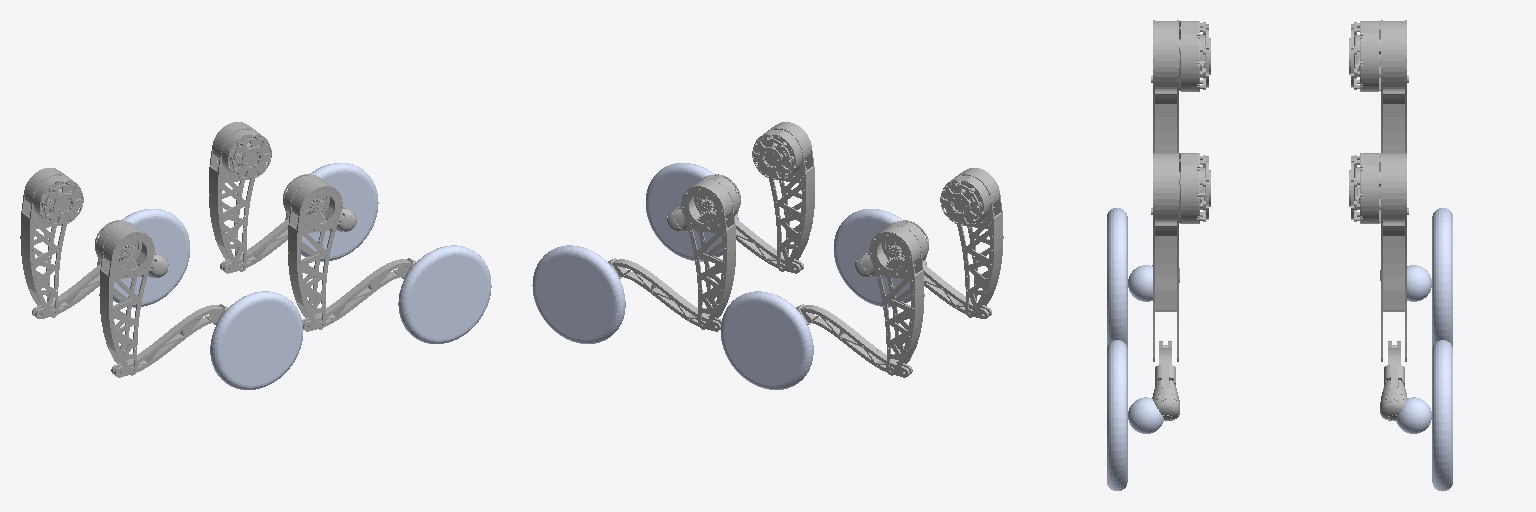
The robot description file, URDF, robot "blackW":
<?xml version="1.0"?>
<robot name="blackW">

  <link name="base">
    <visual>
      <origin xyz="0 0 0" rpy="0 0 0" />
      <geometry>
        <box size="0.001 0.001 0.001" />
      </geometry>
    </visual>
  </link>

  <link name="trunk">
    <visual>
      <origin xyz="0 0 0" rpy="0 0 0" />
      <geometry>
        <mesh filename="meshes/trunk.STL" />
      </geometry>
      <material name="trunk_mat">
        <color rgba="0.74902353 0.74902353 0.74902353 1.00000000"/>
      </material>
    </visual>
    <collision>
      <origin xyz="0 0 -0.02" rpy="0 0 0" />
      <geometry>
        <box size="0.3 0.14 0.065" />
      </geometry>
    </collision>
    <collision>
      <origin xyz="0 0 -0.08" rpy="0 0 0" />
      <geometry>
        <box size="0.23 0.11 0.06" />
      </geometry>
    </collision>
    <collision>
      <origin xyz="0 0 -0.125" rpy="0 0 0" />
      <geometry>
        <box size="0.21 0.12 0.04" />
      </geometry>
    </collision>
    <collision>
      <origin xyz="0.225 0 -0.13" rpy="0 0 0" />
      <geometry>
        <box size="0.145 0.07 0.01" />
      </geometry>
    </collision>
    <collision>
      <origin xyz="0.225 0 0.015" rpy="0 0 0" />
      <geometry>
        <box size="0.145 0.09 0.01" />
      </geometry>
    </collision>
    <collision>
      <origin xyz="0.293 0 -0.055" rpy="0 0 0" />
      <geometry>
        <box size="0.01 0.09 0.14" />
      </geometry>
    </collision>
    <inertial>
      <origin xyz="-0.012143 -0.0000494 -0.0734402" rpy="0 0 0" />
      <mass value="5.7659525" />
      <inertia ixx="0.0093888" ixy="-0.0000026" ixz="0.0000017" iyy="0.0077112" iyz="-0.0000276" izz="0.012879" />
    </inertial>
  </link>

  <link name="imu_link">
    <visual>
      <origin xyz="0 0 0" rpy="0 0 0" />
      <geometry>
        <box size="0.001 0.001 0.001" />
      </geometry>
      <material name="imu_link_mat">
        <color rgba="0.80000392 0.00000392 0.00000392 1.00000000"/>
      </material>
    </visual>
    <inertial>
      <origin xyz="0 0 0" rpy="0 0 0" />
      <mass value="0.001" />
      <inertia ixx="0.0001" ixy="0" ixz="0" iyy="0.0001" iyz="0" izz="0.0001" />
    </inertial>
  </link>

  <link name="d435_link">
    <visual>
      <origin xyz="0.07 0 -0.08" rpy="2.2165682 0 1.5707963" />
      <geometry>
        <mesh filename="meshes/d435.stl" />
      </geometry>
      <material name="d435_link_mat">
        <color rgba="0.14902353 0.14902353 0.14902353 1.00000000"/>
      </material>
    </visual>
    <inertial>
      <origin xyz="0 0 -0.0125" rpy="0 0 0" />
      <mass value="0.072" />
      <inertia ixx="0.00002" ixy="0" ixz="0" iyy="0.00006" iyz="0" izz="0.00006" />
    </inertial>
  </link>

  <link name="FL_hip">
    <visual>
      <origin xyz="0 0 0" rpy="0 0 0" />
      <geometry>
        <mesh filename="meshes/FL_hip.STL" />
      </geometry>
      <material name="FL_hip_mat">
        <color rgba="0.74902353 0.74902353 0.74902353 1.00000000"/>
      </material>
    </visual>
    <collision>
      <origin xyz="0.058 0.03 0" rpy="1.5707963 0 0" />
      <geometry>
        <cylinder radius="0.052" length="0.06" />
      </geometry>
    </collision>
    <inertial>
      <origin xyz="0.0513796 0.0147843 0.0000566" rpy="0 0 0" />
      <mass value="0.6055878" />
      <inertia ixx="0.0003742" ixy="-0.0000088" ixz="0.000001" iyy="0.0006493" iyz="-0.0000001" izz="0.0003415" />
    </inertial>
  </link>

  <link name="FL_thigh">
    <visual>
      <origin xyz="0 0 0" rpy="0 0 0" />
      <geometry>
        <mesh filename="meshes/FL_thigh.STL" />
      </geometry>
      <material name="FL_thigh_mat">
        <color rgba="0.74902353 0.74902353 0.74902353 1.00000000"/>
      </material>
    </visual>
    <collision>
      <origin xyz="0.06 0.015 -0.17" rpy="0 0 0" />
      <geometry>
        <box size="0.035 0.05 0.205" />
      </geometry>
    </collision>
    <collision>
      <origin xyz="0.06 0 -0.003" rpy="0 1.5707963 0" />
      <geometry>
        <cylinder radius="0.052" length="0.035" />
      </geometry>
    </collision>
    <inertial>
      <origin xyz="0.0414485 0.004453 -0.0219464" rpy="0 0 0" />
      <mass value="0.9116849" />
      <inertia ixx="0.0018577" ixy="0" ixz="-0.0000002" iyy="0.0013983" iyz="0.0000051" izz="0.0005179" />
    </inertial>
  </link>

  <link name="FL_calf">
    <visual>
      <origin xyz="0 0 0" rpy="0 0 0" />
      <geometry>
        <mesh filename="meshes/FL_calf.STL" />
      </geometry>
      <material name="FL_calf_mat">
        <color rgba="0.74902353 0.74902353 0.74902353 1.00000000"/>
      </material>
    </visual>
    <collision>
      <origin xyz="0 -0.025 -0.09" rpy="-0.3548254 0 0" />
      <geometry>
        <cylinder radius="0.014" length="0.13" />
      </geometry>
    </collision>
    <collision>
      <origin xyz="-0.01 -0.042 -0.178" rpy="0.0701622 0 0" />
      <geometry>
        <cylinder radius="0.014" length="0.05" />
      </geometry>
    </collision>
    <collision>
      <origin xyz="-0.01 -0.028 -0.218" rpy="0.6981317 0 0" />
      <geometry>
        <cylinder radius="0.02" length="0.04" />
      </geometry>
    </collision>
    <inertial>
      <origin xyz="0.0040653 -0.0170671 -0.1908967" rpy="0 0 0" />
      <mass value="0.6311814" />
      <inertia ixx="0.0017739" ixy="-0.0000007" ixz="0.0000012" iyy="0.0014952" iyz="-0.0000722" izz="0.000293" />
    </inertial>
  </link>

  <link name="FL_foot">
    <visual>
      <origin xyz="0 0 0" rpy="0 0 0" />
      <geometry>
        <mesh filename="meshes/FL_foot.STL" />
      </geometry>
      <material name="FL_foot_mat">
        <color rgba="0.86667059 0.90588627 1.00000000 1.00000000"/>
      </material>
    </visual>
    <collision>
      <origin xyz="0.028 0 0" rpy="0 1.5707963 0" />
      <geometry>
        <cylinder radius="0.103" length="0.049" />
      </geometry>
    </collision>
    <inertial>
      <origin xyz="0.0291381 0.0000012 -0.0000002" rpy="0 0 0" />
      <mass value="1.4862602" />
      <inertia ixx="0.0069491" ixy="0" ixz="0" iyy="0.0036386" iyz="0" izz="0.0036388" />
    </inertial>
  </link>

  <link name="FR_hip">
    <visual>
      <origin xyz="0 0 0" rpy="0 0 0" />
      <geometry>
        <mesh filename="meshes/FR_hip.STL" />
      </geometry>
      <material name="FR_hip_mat">
        <color rgba="0.74902353 0.74902353 0.74902353 1.00000000"/>
      </material>
    </visual>
    <collision>
      <origin xyz="0.058 -0.03 0" rpy="1.5707963 0 0" />
      <geometry>
        <cylinder radius="0.052" length="0.06" />
      </geometry>
    </collision>
    <inertial>
      <origin xyz="0.0513796 -0.0147843 -0.0000566" rpy="0 0 0" />
      <mass value="0.6055878" />
      <inertia ixx="0.0003742" ixy="0.0000088" ixz="-0.000001" iyy="0.0006493" iyz="-0.0000001" izz="0.0003415" />
    </inertial>
  </link>

  <link name="FR_thigh">
    <visual>
      <origin xyz="0 0 0" rpy="0 0 0" />
      <geometry>
        <mesh filename="meshes/FR_thigh.STL" />
      </geometry>
      <material name="FR_thigh_mat">
        <color rgba="0.74902353 0.74902353 0.74902353 1.00000000"/>
      </material>
    </visual>
    <collision>
      <origin xyz="0.06 -0.015 -0.17" rpy="0 0 0" />
      <geometry>
        <box size="0.035 0.05 0.205" />
      </geometry>
    </collision>
    <collision>
      <origin xyz="0.06 0 -0.003" rpy="0 1.5707963 0" />
      <geometry>
        <cylinder radius="0.052" length="0.035" />
      </geometry>
    </collision>
    <inertial>
      <origin xyz="0.0415203 -0.0043781 -0.0220242" rpy="0 0 0" />
      <mass value="0.9149128" />
      <inertia ixx="0.0018577" ixy="-0.0000001" ixz="-0.0000002" iyy="0.0013991" iyz="-0.0000031" izz="0.0005172" />
    </inertial>
  </link>

  <link name="FR_calf">
    <visual>
      <origin xyz="0 0 0" rpy="0 0 0" />
      <geometry>
        <mesh filename="meshes/FR_calf.STL" />
      </geometry>
      <material name="FR_calf_mat">
        <color rgba="0.74902353 0.74902353 0.74902353 1.00000000"/>
      </material>
    </visual>
    <collision>
      <origin xyz="0 0.025 -0.09" rpy="0.3548254 0 0" />
      <geometry>
        <cylinder radius="0.014" length="0.13" />
      </geometry>
    </collision>
    <collision>
      <origin xyz="-0.01 0.042 -0.178" rpy="-0.0701622 0 0" />
      <geometry>
        <cylinder radius="0.014" length="0.05" />
      </geometry>
    </collision>
    <collision>
      <origin xyz="-0.01 0.028 -0.218" rpy="-0.6981317 0 0" />
      <geometry>
        <cylinder radius="0.02" length="0.04" />
      </geometry>
    </collision>
    <inertial>
      <origin xyz="0.0040653 0.0170625 -0.1908923" rpy="0 0 0" />
      <mass value="0.6311813" />
      <inertia ixx="0.0017739" ixy="0.0000007" ixz="0.0000011" iyy="0.0014951" iyz="0.0000722" izz="0.000293" />
    </inertial>
  </link>

  <link name="FR_foot">
    <visual>
      <origin xyz="0 0 0" rpy="0 0 0" />
      <geometry>
        <mesh filename="meshes/FR_foot.STL" />
      </geometry>
      <material name="FR_foot_mat">
        <color rgba="0.86667059 0.90588627 1.00000000 1.00000000"/>
      </material>
    </visual>
    <collision>
      <origin xyz="0.028 0 0" rpy="0 1.5707963 0" />
      <geometry>
        <cylinder radius="0.103" length="0.049" />
      </geometry>
    </collision>
    <inertial>
      <origin xyz="0.0291381 -0.0000001 -0.0000012" rpy="0 0 0" />
      <mass value="1.4862603" />
      <inertia ixx="0.0069491" ixy="0" ixz="0" iyy="0.0036388" iyz="0" izz="0.0036386" />
    </inertial>
  </link>

  <link name="RR_hip">
    <visual>
      <origin xyz="0 0 0" rpy="0 0 0" />
      <geometry>
        <mesh filename="meshes/RR_hip.STL" />
      </geometry>
      <material name="RR_hip_mat">
        <color rgba="0.74902353 0.74902353 0.74902353 1.00000000"/>
      </material>
    </visual>
    <collision>
      <origin xyz="0.058 0.03 0" rpy="1.5707963 0 0" />
      <geometry>
        <cylinder radius="0.052" length="0.06" />
      </geometry>
    </collision>
    <inertial>
      <origin xyz="0.0513796 0.0147843 0.0000566" rpy="0 0 0" />
      <mass value="0.6055878" />
      <inertia ixx="0.0003742" ixy="-0.0000088" ixz="0.000001" iyy="0.0006493" iyz="-0.0000001" izz="0.0003415" />
    </inertial>
  </link>

  <link name="RR_thigh">
    <visual>
      <origin xyz="0 0 0" rpy="0 0 0" />
      <geometry>
        <mesh filename="meshes/RR_thigh.STL" />
      </geometry>
      <material name="RR_thigh_mat">
        <color rgba="0.74902353 0.74902353 0.74902353 1.00000000"/>
      </material>
    </visual>
    <collision>
      <origin xyz="0.06 -0.015 -0.17" rpy="0 0 0" />
      <geometry>
        <box size="0.035 0.05 0.205" />
      </geometry>
    </collision>
    <collision>
      <origin xyz="0.06 0 -0.003" rpy="0 1.5707963 0" />
      <geometry>
        <cylinder radius="0.052" length="0.035" />
      </geometry>
    </collision>
    <inertial>
      <origin xyz="0.0415203 -0.0043781 -0.0220242" rpy="0 0 0" />
      <mass value="0.9149128" />
      <inertia ixx="0.0018577" ixy="-0.0000001" ixz="-0.0000002" iyy="0.0013991" iyz="-0.0000031" izz="0.0005172" />
    </inertial>
  </link>

  <link name="RR_calf">
    <visual>
      <origin xyz="0 0 0" rpy="0 0 0" />
      <geometry>
        <mesh filename="meshes/RR_calf.STL" />
      </geometry>
      <material name="RR_calf_mat">
        <color rgba="0.74902353 0.74902353 0.74902353 1.00000000"/>
      </material>
    </visual>
    <collision>
      <origin xyz="0 0.025 -0.09" rpy="0.3548254 0 0" />
      <geometry>
        <cylinder radius="0.014" length="0.13" />
      </geometry>
    </collision>
    <collision>
      <origin xyz="-0.01 0.042 -0.178" rpy="-0.0701622 0 0" />
      <geometry>
        <cylinder radius="0.014" length="0.05" />
      </geometry>
    </collision>
    <collision>
      <origin xyz="-0.01 0.028 -0.218" rpy="-0.6981317 0 0" />
      <geometry>
        <cylinder radius="0.02" length="0.04" />
      </geometry>
    </collision>
    <inertial>
      <origin xyz="0.0040653 0.0170625 -0.1908923" rpy="0 0 0" />
      <mass value="0.6311815" />
      <inertia ixx="0.0017739" ixy="0.0000007" ixz="0.0000011" iyy="0.0014951" iyz="0.0000722" izz="0.000293" />
    </inertial>
  </link>

  <link name="RR_foot">
    <visual>
      <origin xyz="0 0 0" rpy="0 0 0" />
      <geometry>
        <mesh filename="meshes/RR_foot.STL" />
      </geometry>
      <material name="RR_foot_mat">
        <color rgba="0.86667059 0.90588627 1.00000000 1.00000000"/>
      </material>
    </visual>
    <collision>
      <origin xyz="0.028 0 0" rpy="0 1.5707963 0" />
      <geometry>
        <cylinder radius="0.103" length="0.049" />
      </geometry>
    </collision>
    <inertial>
      <origin xyz="0.0291381 0.0000011 0.0000005" rpy="0 0 0" />
      <mass value="1.4862602" />
      <inertia ixx="0.0069491" ixy="0" ixz="0" iyy="0.0036387" iyz="-0.0000001" izz="0.0036387" />
    </inertial>
  </link>

  <link name="RL_hip">
    <visual>
      <origin xyz="0 0 0" rpy="0 0 0" />
      <geometry>
        <mesh filename="meshes/RL_hip.STL" />
      </geometry>
      <material name="RL_hip_mat">
        <color rgba="0.74902353 0.74902353 0.74902353 1.00000000"/>
      </material>
    </visual>
    <collision>
      <origin xyz="0.058 -0.03 0" rpy="1.5707963 0 0" />
      <geometry>
        <cylinder radius="0.052" length="0.06" />
      </geometry>
    </collision>
    <inertial>
      <origin xyz="0.0513796 -0.0147843 -0.0000566" rpy="0 0 0" />
      <mass value="0.6055878" />
      <inertia ixx="0.0003742" ixy="0.0000088" ixz="-0.000001" iyy="0.0006493" iyz="-0.0000001" izz="0.0003415" />
    </inertial>
  </link>

  <link name="RL_thigh">
    <visual>
      <origin xyz="0 0 0" rpy="0 0 0" />
      <geometry>
        <mesh filename="meshes/RL_thigh.STL" />
      </geometry>
      <material name="RL_thigh_mat">
        <color rgba="0.74902353 0.74902353 0.74902353 1.00000000"/>
      </material>
    </visual>
    <collision>
      <origin xyz="0.06 0.015 -0.17" rpy="0 0 0" />
      <geometry>
        <box size="0.035 0.05 0.205" />
      </geometry>
    </collision>
    <collision>
      <origin xyz="0.06 0 -0.003" rpy="0 1.5707963 0" />
      <geometry>
        <cylinder radius="0.052" length="0.035" />
      </geometry>
    </collision>
    <inertial>
      <origin xyz="0.0414485 0.0044527 -0.0219466" rpy="0 0 0" />
      <mass value="0.9116849" />
      <inertia ixx="0.0018577" ixy="0" ixz="-0.0000002" iyy="0.0013983" iyz="0.0000051" izz="0.0005179" />
    </inertial>
  </link>

  <link name="RL_calf">
    <visual>
      <origin xyz="0 0 0" rpy="0 0 0" />
      <geometry>
        <mesh filename="meshes/RL_calf.STL" />
      </geometry>
      <material name="RL_calf_mat">
        <color rgba="0.74902353 0.74902353 0.74902353 1.00000000"/>
      </material>
    </visual>
    <collision>
      <origin xyz="0 -0.025 -0.09" rpy="-0.3548254 0 0" />
      <geometry>
        <cylinder radius="0.014" length="0.13" />
      </geometry>
    </collision>
    <collision>
      <origin xyz="-0.01 -0.042 -0.178" rpy="0.0701622 0 0" />
      <geometry>
        <cylinder radius="0.014" length="0.05" />
      </geometry>
    </collision>
    <collision>
      <origin xyz="-0.01 -0.028 -0.218" rpy="0.6981317 0 0" />
      <geometry>
        <cylinder radius="0.02" length="0.04" />
      </geometry>
    </collision>
    <inertial>
      <origin xyz="0.0040653 -0.0170671 -0.1908967" rpy="0 0 0" />
      <mass value="0.6311814" />
      <inertia ixx="0.0017739" ixy="-0.0000007" ixz="0.0000012" iyy="0.0014952" iyz="-0.0000722" izz="0.000293" />
    </inertial>
  </link>

  <link name="RL_foot">
    <visual>
      <origin xyz="0 0 0" rpy="0 0 0" />
      <geometry>
        <mesh filename="meshes/RL_foot.STL" />
      </geometry>
      <material name="RL_foot_mat">
        <color rgba="0.86667059 0.90588627 1.00000000 1.00000000"/>
      </material>
    </visual>
    <collision>
      <origin xyz="0.028 0 0" rpy="0 1.5707963 0" />
      <geometry>
        <cylinder radius="0.103" length="0.049" />
      </geometry>
    </collision>
    <inertial>
      <origin xyz="0.0291381 0.0000012 -0.0000002" rpy="0 0 0" />
      <mass value="1.4862602" />
      <inertia ixx="0.0069491" ixy="0" ixz="0" iyy="0.0036386" iyz="0" izz="0.0036388" />
    </inertial>
  </link>

  <joint name="floating_base" type="fixed">
    <parent link="base" />
    <child link="trunk" />
    <origin xyz="0 0 0" rpy="0 0 0" />
  </joint>

  <joint name="imu_joint" type="fixed">
    <parent link="trunk" />
    <child link="imu_link" />
    <origin xyz="0 0 0" rpy="0 0 0" />
  </joint>

  <joint name="d435_joint" type="fixed">
    <parent link="trunk" />
    <child link="d435_link" />
    <origin xyz="0.225 0 0.028" rpy="0 0 0" />
  </joint>

  <joint name="FL_hip_joint" type="revolute">
    <parent link="trunk" />
    <child link="FL_hip" />
    <origin xyz="0.1566 0.060001 -0.06425" rpy="0 0 0" />
    <axis xyz="1 0 0" />
    <limit lower="-0.5" upper="0.5" effort="23.7" velocity="30.1" />
  </joint>

  <joint name="FL_thigh_joint" type="revolute">
    <parent link="FL_hip" />
    <child link="FL_thigh" />
    <origin xyz="0.056 0.0336 0" rpy="0 0 1.5708" />
    <axis xyz="1 0 0" />
    <limit lower="-1.4" upper="3.0" effort="23.7" velocity="30.1" />
  </joint>

  <joint name="FL_calf_joint" type="revolute">
    <parent link="FL_thigh" />
    <child link="FL_calf" />
    <origin xyz="0.0618 0 -0.25" rpy="0 0 0" />
    <axis xyz="1 0 0" />
    <limit lower="-2.5" upper="-0.85" effort="59.25" velocity="12.04" />
  </joint>

  <joint name="FL_wheel_joint" type="revolute">
    <parent link="FL_calf" />
    <child link="FL_foot" />
    <origin xyz="0.02635 0 -0.25253" rpy="3.1416 0 0" />
    <axis xyz="1 0 0" />
    <limit lower="-999999" upper="999999" effort="20" velocity="50" />
  </joint>

  <joint name="FR_hip_joint" type="revolute">
    <parent link="trunk" />
    <child link="FR_hip" />
    <origin xyz="0.1566 -0.059999 -0.06425" rpy="0 0 0" />
    <axis xyz="1 0 0" />
    <limit lower="-0.5" upper="0.5" effort="23.7" velocity="30.1" />
  </joint>

  <joint name="FR_thigh_joint" type="revolute">
    <parent link="FR_hip" />
    <child link="FR_thigh" />
    <origin xyz="0.056 -0.0336 0" rpy="0 0 -1.5708" />
    <axis xyz="1 0 0" />
    <limit lower="-3.0" upper="1.4" effort="23.7" velocity="30.1" />
  </joint>

  <joint name="FR_calf_joint" type="revolute">
    <parent link="FR_thigh" />
    <child link="FR_calf" />
    <origin xyz="0.0618 0 -0.25" rpy="0 0 0" />
    <axis xyz="1 0 0" />
    <limit lower="0.85" upper="2.5" effort="59.25" velocity="12.04" />
  </joint>

  <joint name="FR_wheel_joint" type="revolute">
    <parent link="FR_calf" />
    <child link="FR_foot" />
    <origin xyz="0.02635 0 -0.25253" rpy="0 0 0" />
    <axis xyz="1 0 0" />
    <limit lower="-999999" upper="999999" effort="20" velocity="50" />
  </joint>

  <joint name="RR_hip_joint" type="revolute">
    <parent link="trunk" />
    <child link="RR_hip" />
    <origin xyz="-0.1566 -0.059999 -0.06425" rpy="0 0 -3.1416" />
    <axis xyz="1 0 0" />
    <limit lower="-0.5" upper="0.5" effort="23.7" velocity="30.1" />
  </joint>

  <joint name="RR_thigh_joint" type="revolute">
    <parent link="RR_hip" />
    <child link="RR_thigh" />
    <origin xyz="0.056 0.0336 0" rpy="0 0 1.5708" />
    <axis xyz="1 0 0" />
    <limit lower="-3.0" upper="1.4" effort="23.7" velocity="30.1" />
  </joint>

  <joint name="RR_calf_joint" type="revolute">
    <parent link="RR_thigh" />
    <child link="RR_calf" />
    <origin xyz="0.0618 0 -0.25" rpy="0 0 0" />
    <axis xyz="1 0 0" />
    <limit lower="0.85" upper="2.5" effort="59.25" velocity="12.04" />
  </joint>

  <joint name="RR_wheel_joint" type="revolute">
    <parent link="RR_calf" />
    <child link="RR_foot" />
    <origin xyz="0.02635 0 -0.25253" rpy="0 0 0" />
    <axis xyz="1 0 0" />
    <limit lower="-999999" upper="999999" effort="20" velocity="50" />
  </joint>

  <joint name="RL_hip_joint" type="revolute">
    <parent link="trunk" />
    <child link="RL_hip" />
    <origin xyz="-0.1566 0.060001 -0.06425" rpy="0 0 -3.1416" />
    <axis xyz="1 0 0" />
    <limit lower="-0.5" upper="0.5" effort="23.7" velocity="30.1" />
  </joint>

  <joint name="RL_thigh_joint" type="revolute">
    <parent link="RL_hip" />
    <child link="RL_thigh" />
    <origin xyz="0.056 -0.0336 0" rpy="0 0 -1.5708" />
    <axis xyz="1 0 0" />
    <limit lower="-1.4" upper="3.0" effort="23.7" velocity="30.1" />
  </joint>

  <joint name="RL_calf_joint" type="revolute">
    <parent link="RL_thigh" />
    <child link="RL_calf" />
    <origin xyz="0.0618 0 -0.25" rpy="0 0 0" />
    <axis xyz="1 0 0" />
    <limit lower="-2.5" upper="-0.85" effort="59.25" velocity="12.04" />
  </joint>

  <joint name="RL_wheel_joint" type="revolute">
    <parent link="RL_calf" />
    <child link="RL_foot" />
    <origin xyz="0.02635 0 -0.25253" rpy="3.1416 0 0" />
    <axis xyz="1 0 0" />
    <limit lower="-999999" upper="999999" effort="20" velocity="50" />
  </joint>

</robot>

--- Render facts (derived) ---
The picture shows the robot from 3 angles, left to right: view 1: azimuth 30°, elevation 25°; view 2: azimuth 150°, elevation 25°; view 3: azimuth 270°, elevation 25°; orthographic projection.
Robot: blackW — 20 links, 19 joints (16 revolute, 3 fixed); root link base; default pose: joints at zero except 4 at the middle of their limits (FL_calf_joint = -1.68, FR_calf_joint = 1.68, RR_calf_joint = 1.68, RL_calf_joint = -1.68).
Links seen in each view (by area): view 1: RR_foot, FR_foot, FR_thigh, RR_thigh, FL_thigh, RL_thigh, FL_foot, RL_foot, RR_calf, FR_calf, RL_calf, FL_calf; view 2: RL_foot, FL_foot, FL_thigh, RL_thigh, FR_thigh, RR_thigh, FR_foot, RR_foot, RL_calf, FL_calf, RR_calf, FR_calf; view 3: FR_thigh, FL_thigh, RR_thigh, RL_thigh, FR_foot, FL_foot, RL_foot, RR_foot, FR_calf, FL_calf.
Boxes of the visible links, box(x1,y1,x2,y2) form: RR_foot: box(210, 291, 302, 389); FR_foot: box(398, 245, 491, 343); FR_thigh: box(283, 174, 342, 329); RR_thigh: box(95, 220, 154, 375); FL_thigh: box(209, 122, 271, 271); RL_thigh: box(20, 168, 83, 317); FL_foot: box(285, 163, 378, 261); RL_foot: box(97, 209, 189, 307); RR_calf: box(111, 304, 227, 377); FR_calf: box(302, 258, 415, 331); RL_calf: box(32, 253, 168, 318); FL_calf: box(220, 207, 356, 273); RL_foot: box(721, 291, 813, 389); FL_foot: box(532, 245, 625, 343); FL_thigh: box(681, 174, 740, 329); RL_thigh: box(869, 220, 928, 375); FR_thigh: box(752, 122, 814, 271); RR_thigh: box(940, 168, 1003, 317); FR_foot: box(646, 163, 738, 261); RR_foot: box(834, 209, 926, 307); RL_calf: box(796, 304, 912, 377); FL_calf: box(608, 258, 721, 331); RR_calf: box(855, 253, 991, 318); FR_calf: box(667, 207, 803, 273); FR_thigh: box(1151, 153, 1210, 361); FL_thigh: box(1349, 153, 1408, 361); RR_thigh: box(1151, 20, 1210, 152); RL_thigh: box(1349, 20, 1408, 152); FR_foot: box(1107, 340, 1163, 490); FL_foot: box(1396, 340, 1452, 491); RL_foot: box(1407, 208, 1452, 347); RR_foot: box(1107, 208, 1152, 347); FR_calf: box(1152, 341, 1179, 420); FL_calf: box(1380, 341, 1407, 420).
Size in the robot's own frame: 0.835 by 0.4711 by 0.3915 metres.
12 mesh visuals loaded from 18 distinct referenced files (12 binary STL); not drawn: 6 (reference not matched to a file when rendering).
